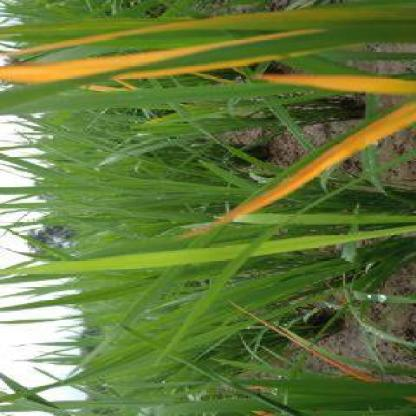Tungro: (233, 104, 416, 221), (1, 32, 332, 86), (254, 76, 416, 96)
